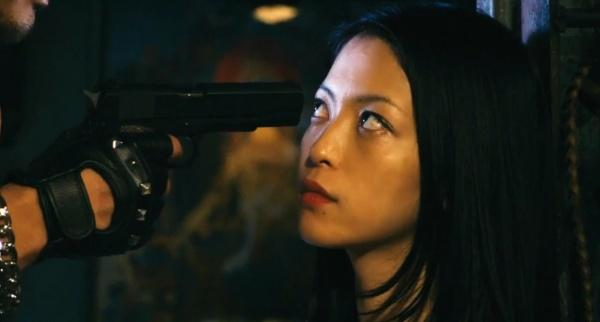Gun: (92, 81, 304, 161)
